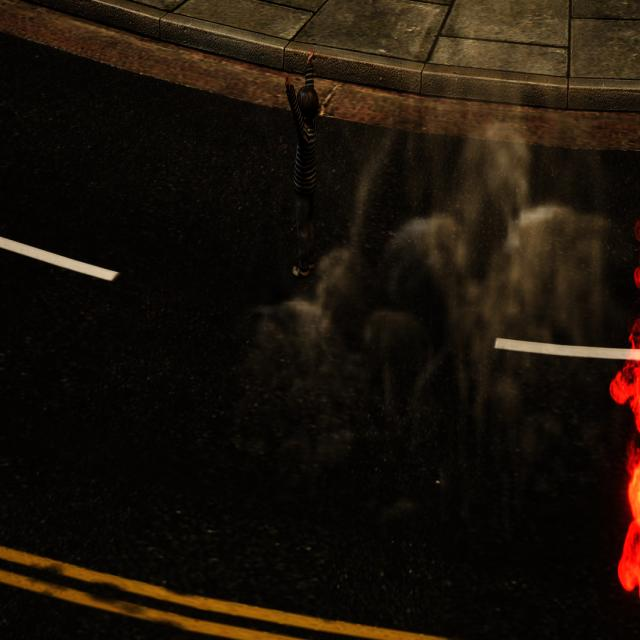Human: (286, 46, 324, 290)
